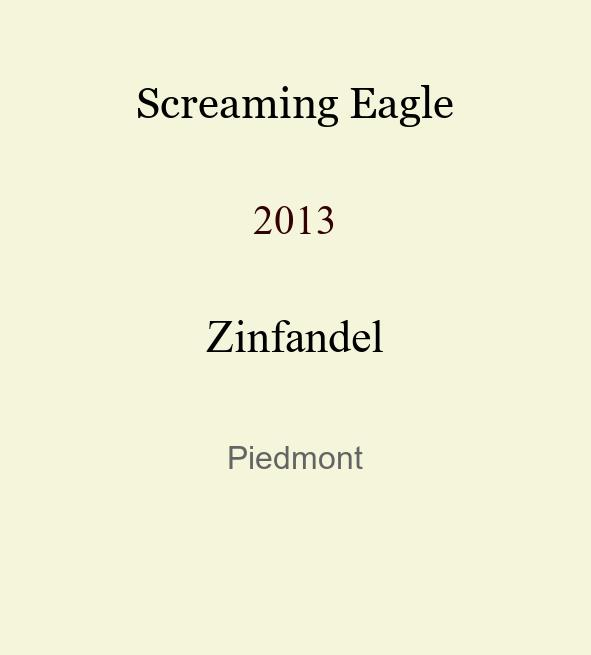brand: (136, 78, 454, 120)
region: (227, 440, 363, 463)
variety: (206, 311, 384, 343)
vintage: (253, 197, 337, 225)
